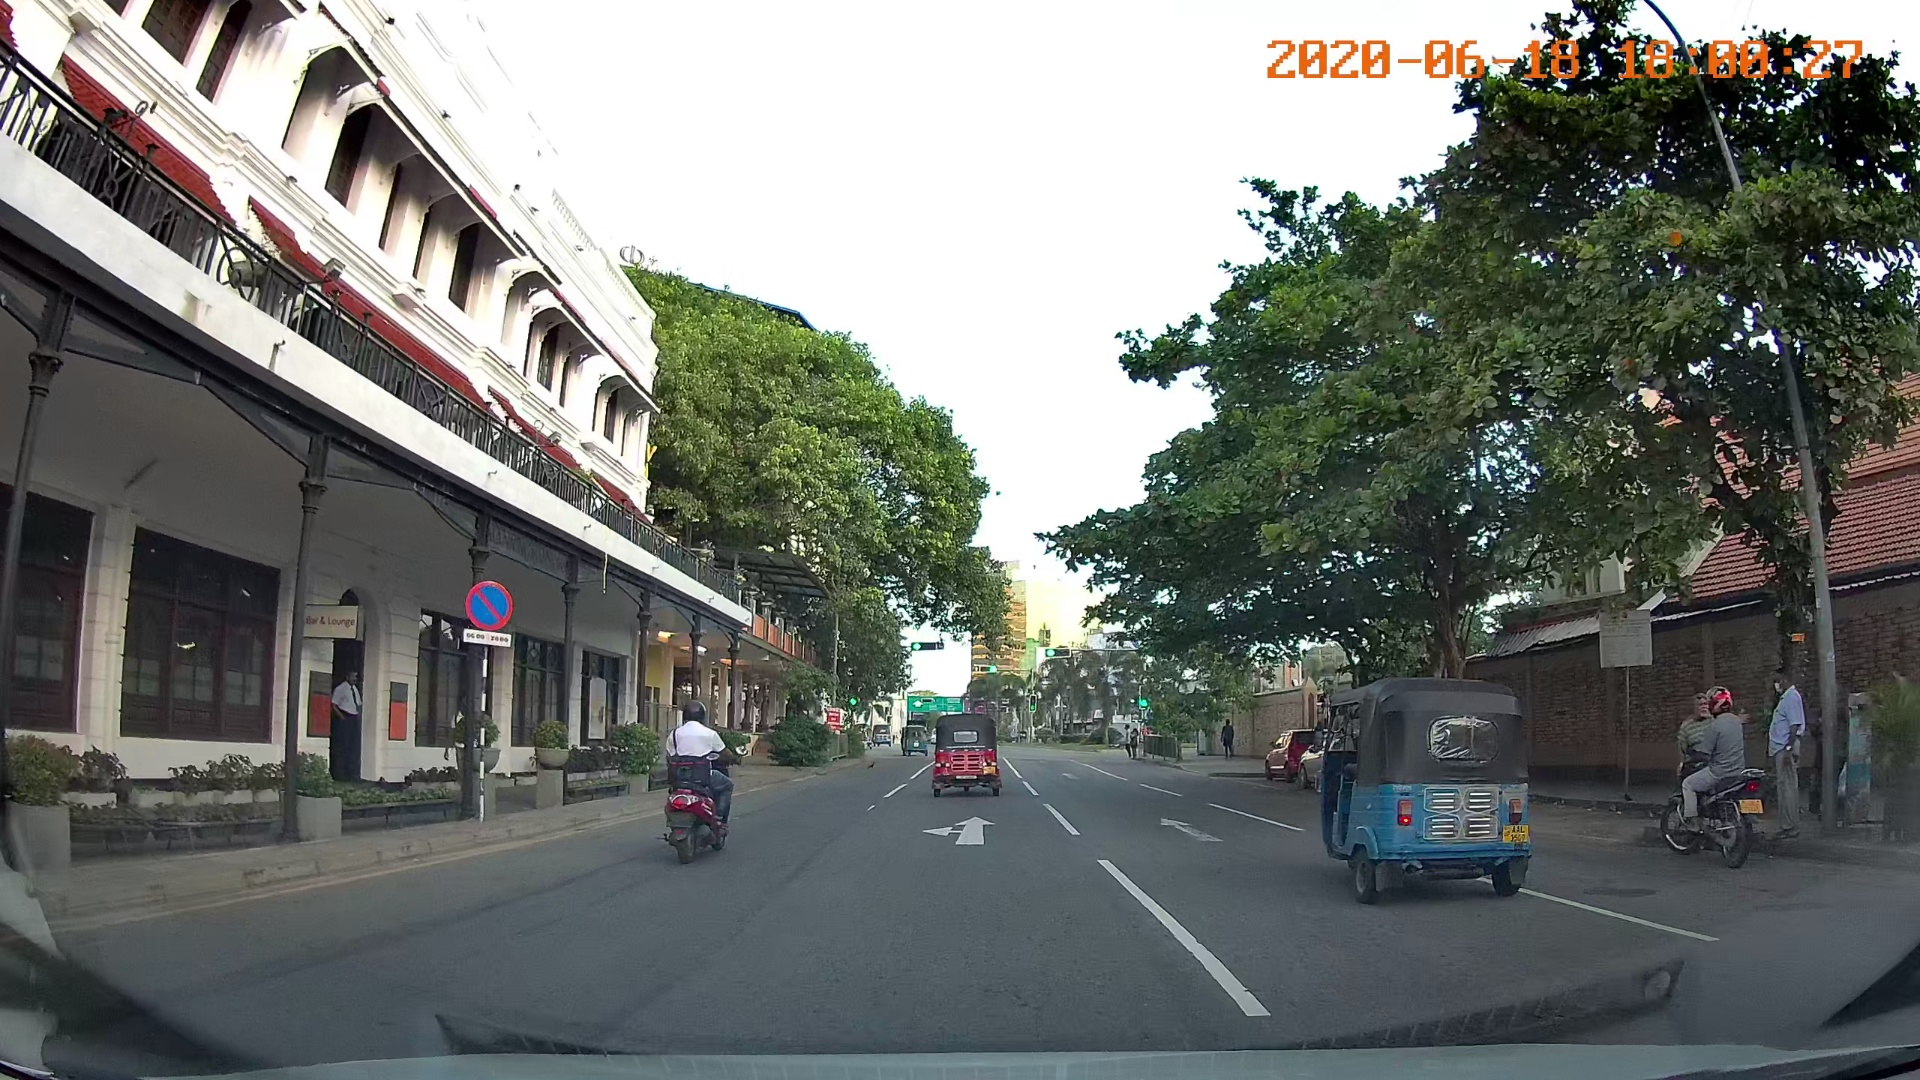arrow: (1135, 815, 1244, 872), (926, 814, 1004, 858)
